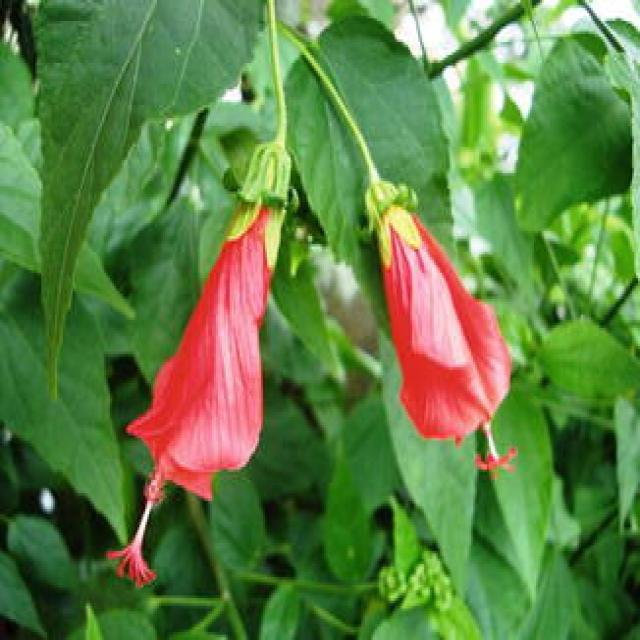Flower: (95, 142, 297, 590), (355, 176, 542, 491)
